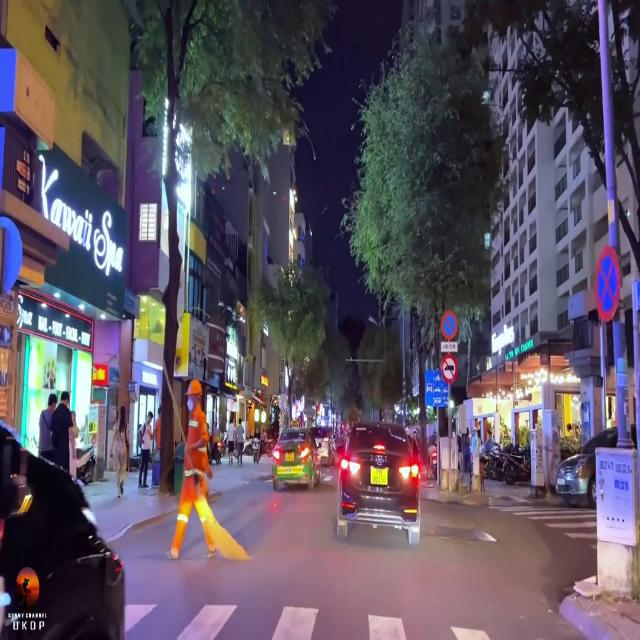bien_vang: (369, 460, 390, 491)
